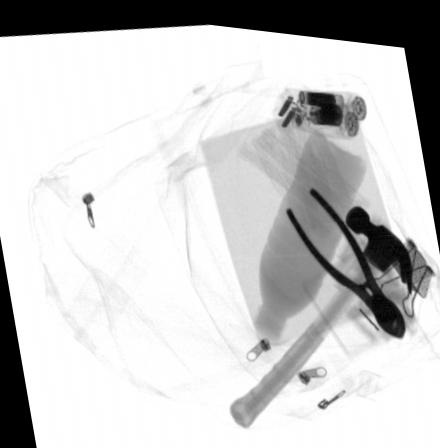Hammer: (227, 195, 410, 423)
Pliers: (285, 180, 404, 327)
